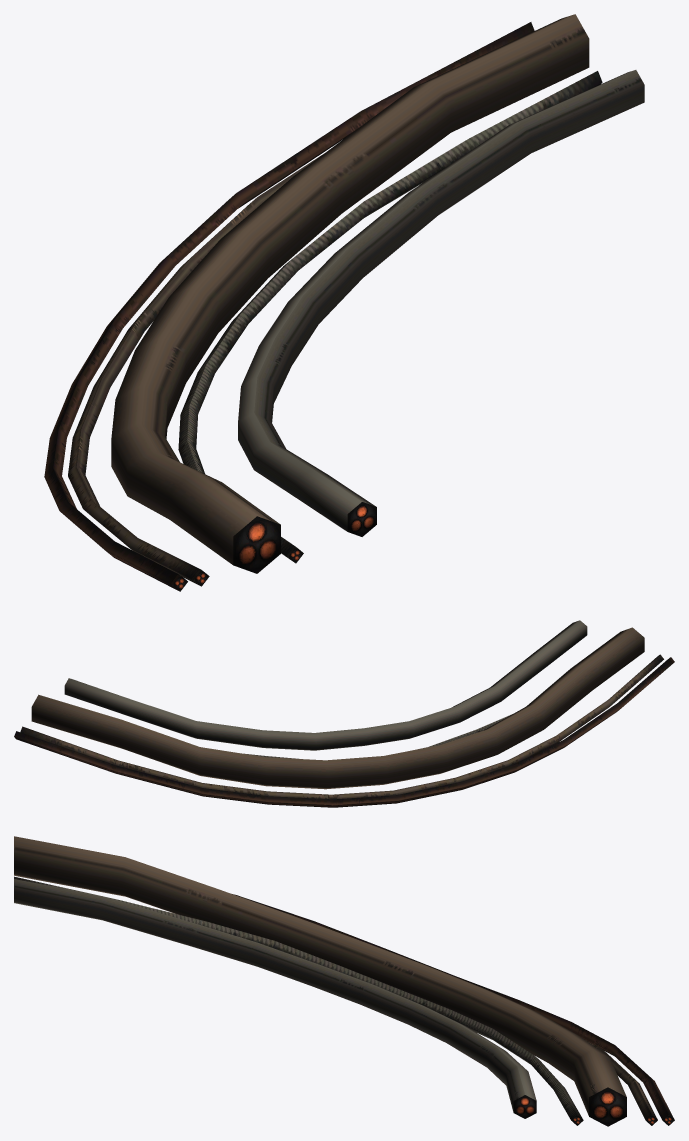
The model's file is multi_cable_hanging_leftturn.dae.
The picture shows the model from 3 angles, top to bottom: view 1: azimuth 30°, elevation 25°; view 2: azimuth 150°, elevation 25°; view 3: azimuth 270°, elevation 25°; orthographic projection. The views are drawn at different scales.
Parts seen in each view (by area): view 1: polySurface21; view 2: polySurface21; view 3: polySurface21.
Boxes of the visible parts, bbox=[...] form: polySurface21: bbox=[44, 14, 644, 591]; polySurface21: bbox=[14, 620, 674, 807]; polySurface21: bbox=[14, 836, 674, 1126].
Size of the model in its own units: 2.28 by 0.3914 by 2.28.
